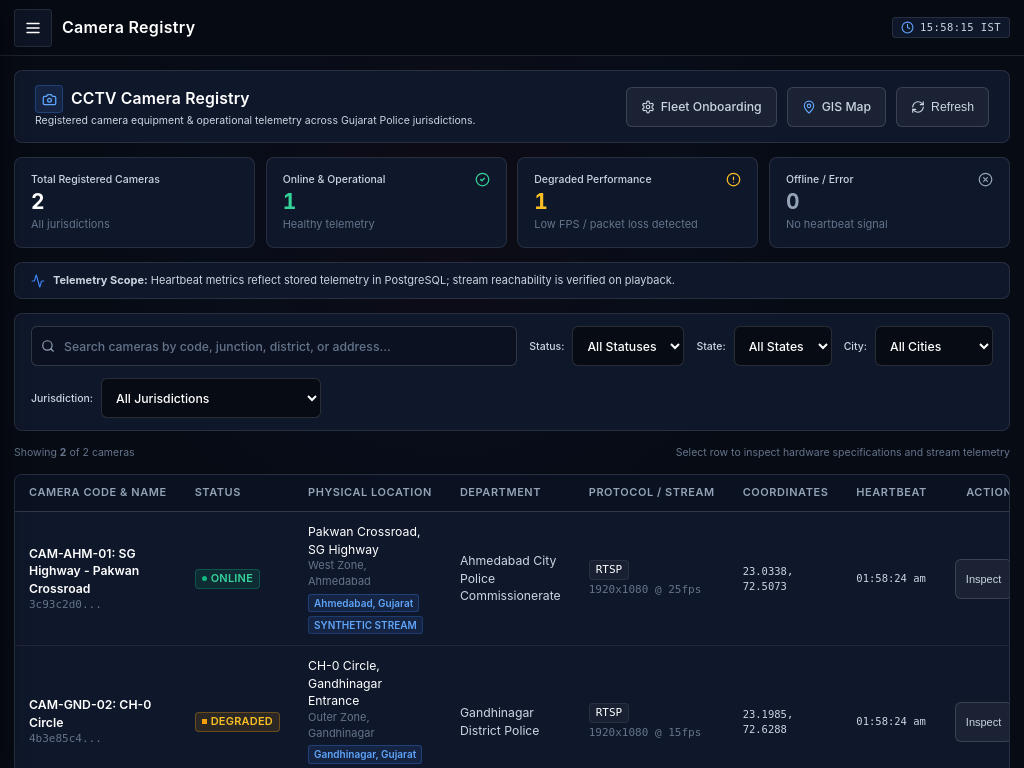
Test case: Camera Registry UI Component (Phase 4B) › displays EmptyState when search yields no matches
Expected: the text "CAM-AHM-01: SG Highway - Pakwan Crossroad" is shown, x1=29 y1=546 x2=139 y2=596
Type "Nonexistent Camera Code 9999" into the field named "Search camera registry" at (274,346), box x1=31 y1=326 x2=517 y2=366
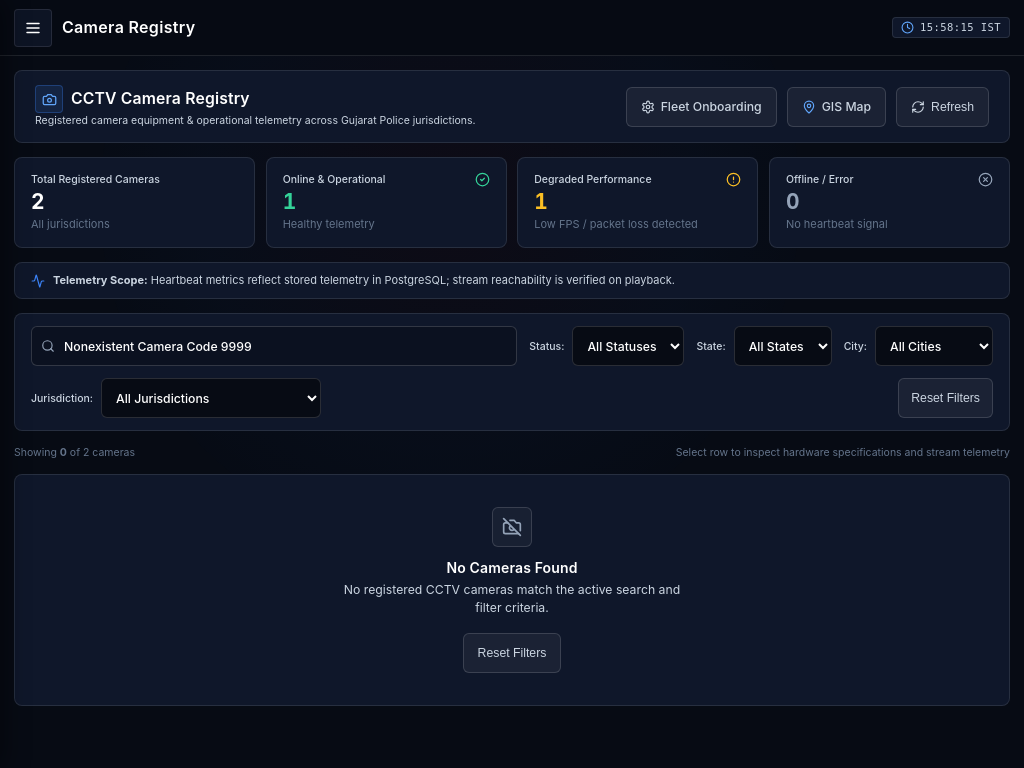
Result: the heading "No Cameras Found" is shown at x1=446 y1=558 x2=578 y2=578
